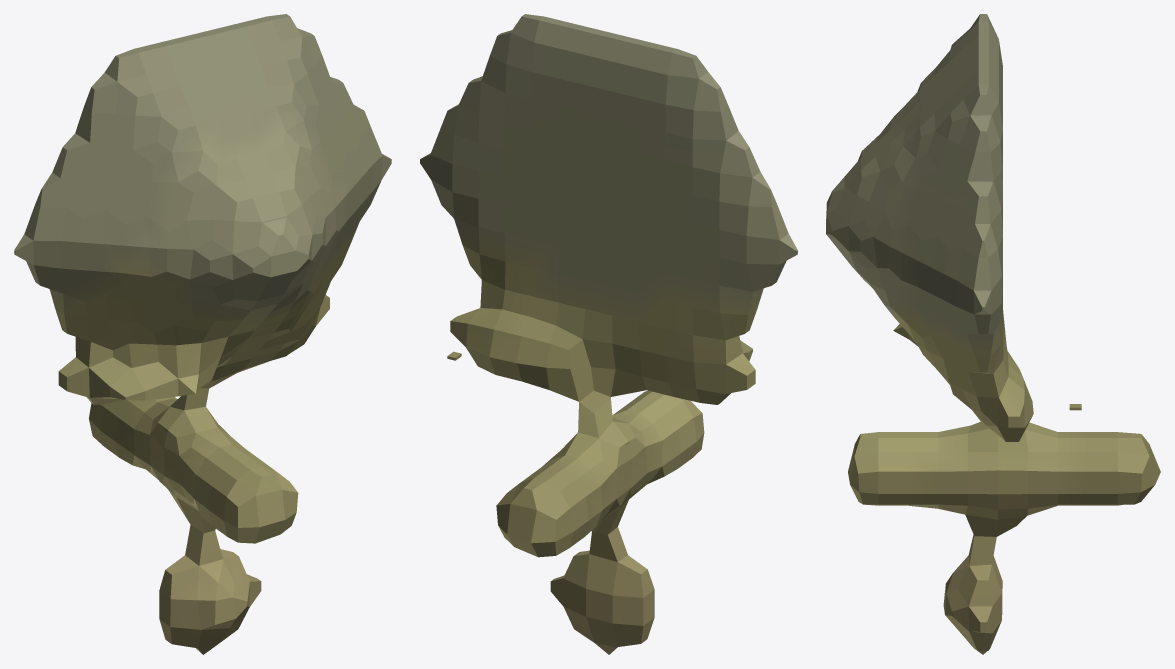
Rendered from carnivorousPlant.glb.
3 renders of one model, left to right at view 1: azimuth 30°, elevation 25°; view 2: azimuth 150°, elevation 25°; view 3: azimuth 270°, elevation 25°, orthographic. The views are drawn at different scales.
Visible parts, largest first — view 1: geometry_0; view 2: geometry_0; view 3: geometry_0.
Part boxes in pixels (box(x1,y1,x2,y2)): geometry_0: box(14, 14, 391, 654); geometry_0: box(420, 14, 797, 654); geometry_0: box(826, 14, 1160, 654).
Bounding box in the file's own units: 0.5863 × 0.9232 × 0.4656.
Materials: 1 (1 with a texture image).
